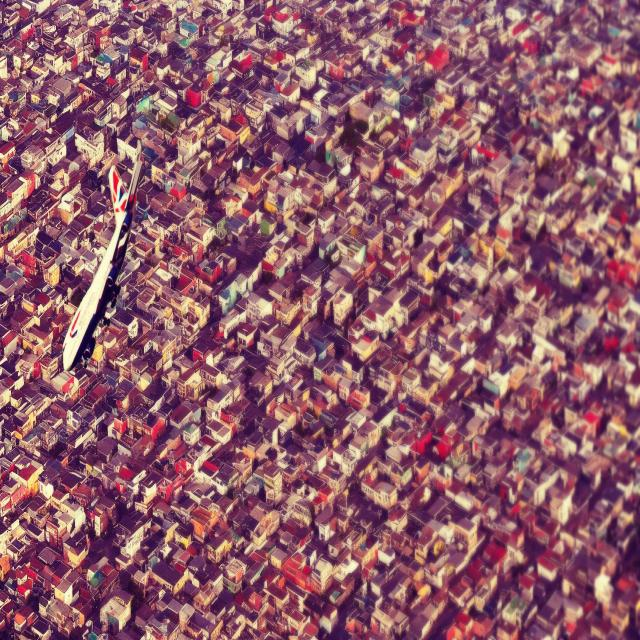airplane: (62, 138, 144, 372)
